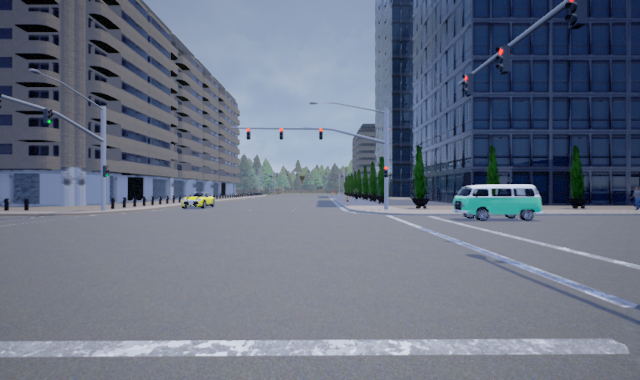vehicle: (452, 183, 542, 220), (180, 193, 215, 208)
